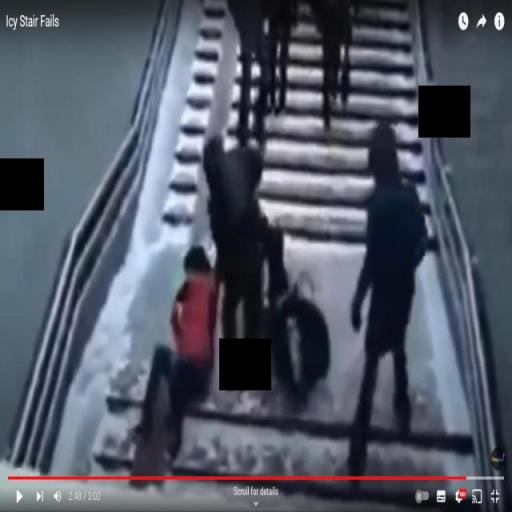Fall: (126, 233, 221, 468), (250, 203, 335, 419)
